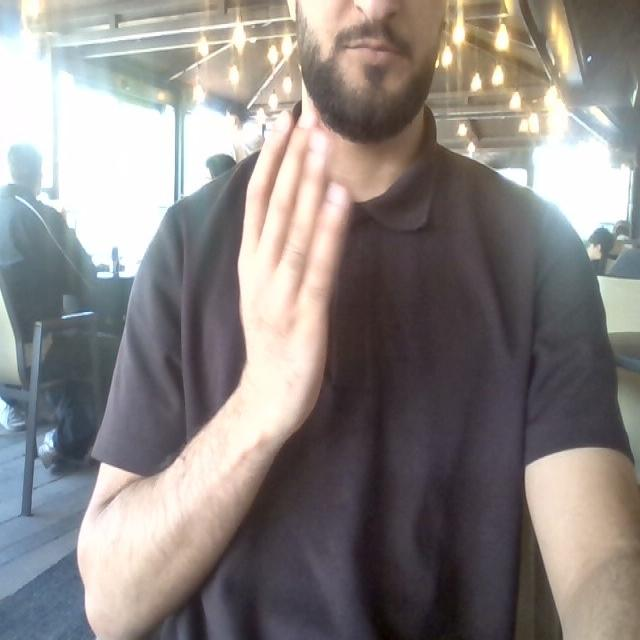Hand: (238, 114, 350, 438)
